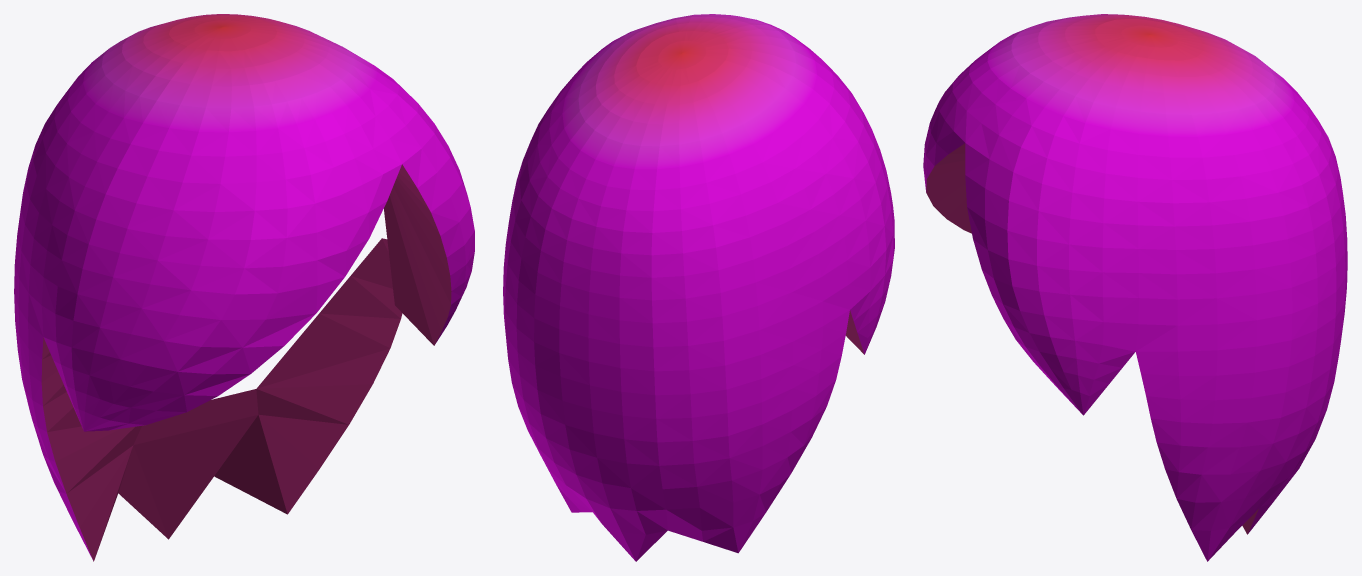
The picture shows the model from 3 angles, left to right: view 1: azimuth 30°, elevation 25°; view 2: azimuth 150°, elevation 25°; view 3: azimuth 270°, elevation 25°; orthographic projection. The views are drawn at different scales.
Visible parts, largest first — view 1: shape; view 2: shape; view 3: shape.
Part boxes in pixels (x1,y1,x2,y2): shape: [14, 14, 474, 561]; shape: [503, 14, 894, 561]; shape: [923, 14, 1347, 561].
Size of the model in its own units: 62.17 by 84.9 by 65.1.
